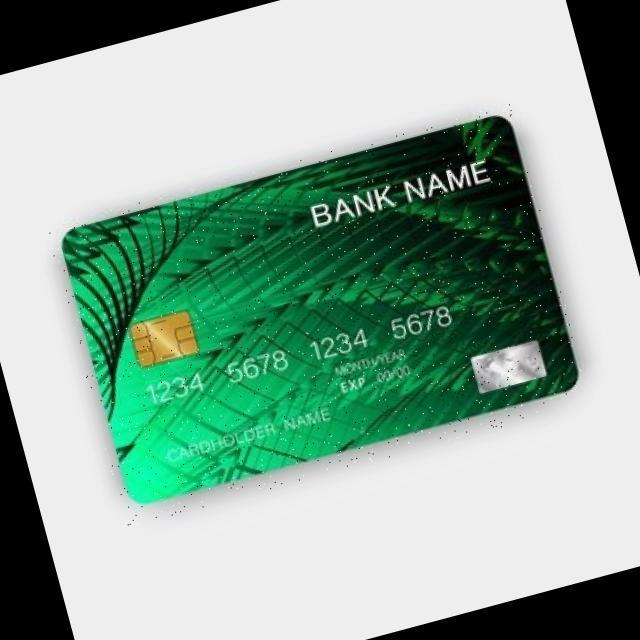payment_card: (60, 113, 580, 505)
